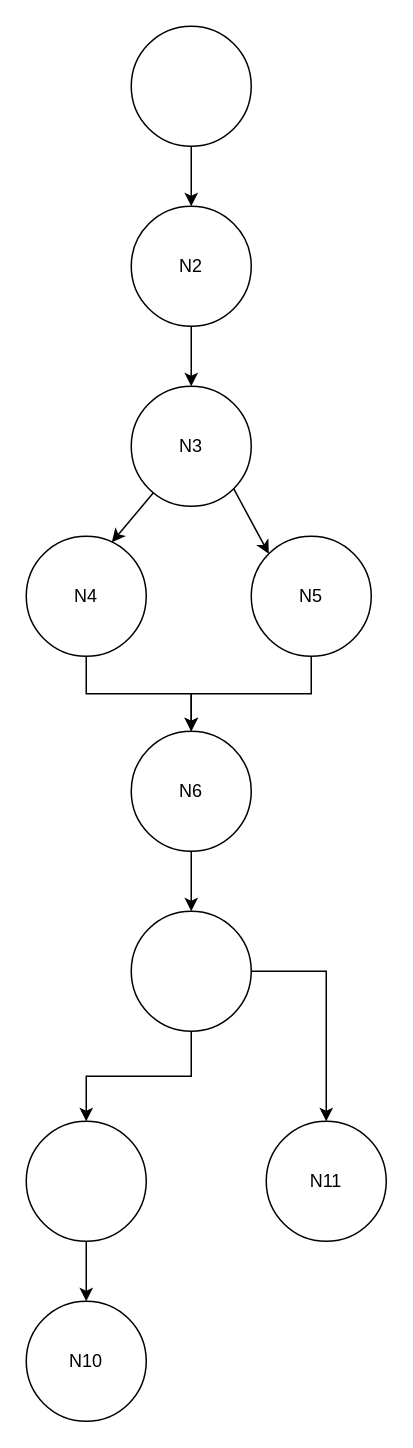
Image size: 413x1448. Some labels were removed from this diagram. Each missing label, with the centre of its shape:
"N1" goes at [190,85].
"N7" goes at [190,970].
"N8, N9" goes at [85,1180].
